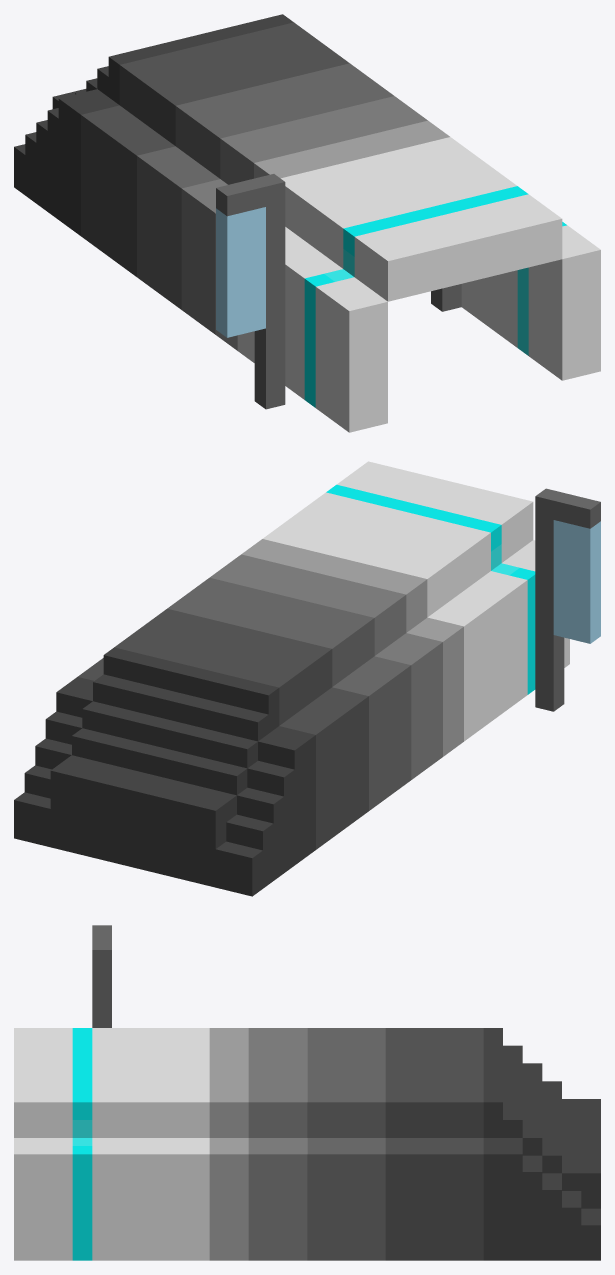
Rendered from subway.obj.
The picture shows the model from 3 angles, top to bottom: view 1: azimuth 30°, elevation 25°; view 2: azimuth 150°, elevation 25°; view 3: azimuth 270°, elevation 25°; orthographic projection. The views are drawn at different scales.
Bounding box in the file's own units: 1.7 × 1.1 × 3.
Materials: 1 (1 with a texture image).
